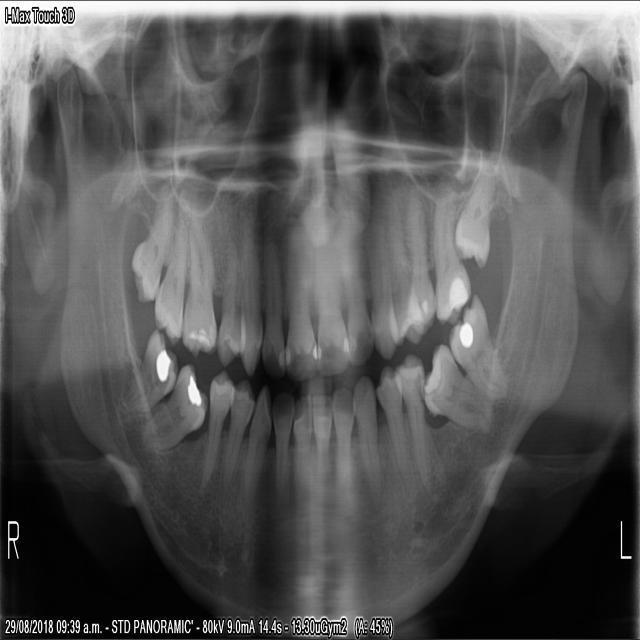LCD: (352, 372, 384, 515)
LCU: (366, 207, 398, 361)
LID: (333, 385, 354, 514), (312, 389, 332, 514)
LIU: (315, 204, 349, 377), (347, 210, 374, 367)
LMD: (446, 291, 510, 402), (424, 342, 493, 437)
LMU: (388, 184, 437, 349), (432, 183, 473, 325), (454, 165, 498, 273)
LPMD: (375, 363, 419, 510), (399, 349, 433, 498)
RCD: (232, 380, 270, 527)
RCU: (237, 210, 261, 377)
RID: (271, 385, 295, 517), (292, 391, 310, 509)
RIU: (284, 216, 316, 381), (259, 236, 283, 380)
RMD: (136, 361, 205, 457), (110, 324, 177, 416)
RMU: (179, 210, 217, 355), (127, 200, 173, 308), (151, 211, 185, 350)
RPMD: (213, 378, 253, 512), (196, 368, 230, 490)
RPMU: (214, 210, 237, 369)
